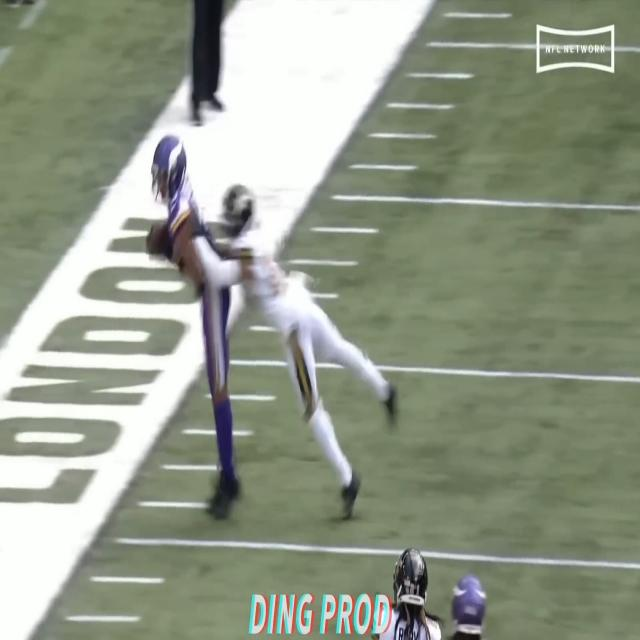football: (147, 220, 170, 260)
players: (141, 115, 243, 518), (242, 264, 391, 519)
